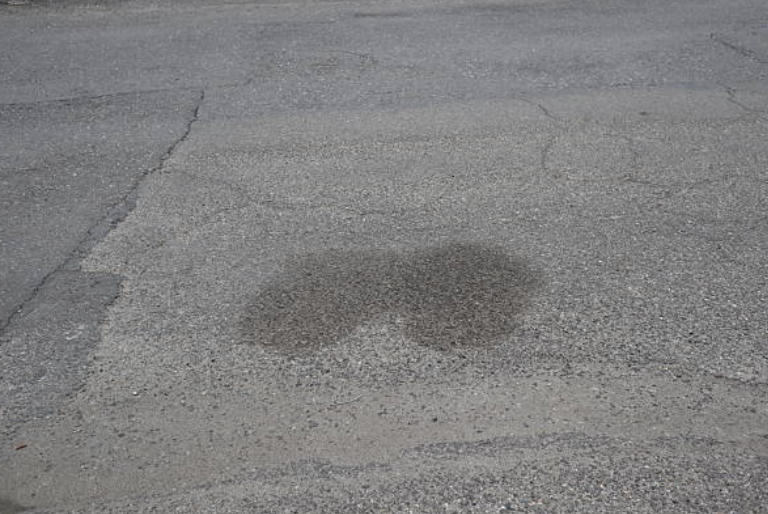oil: (120, 121, 272, 176)
